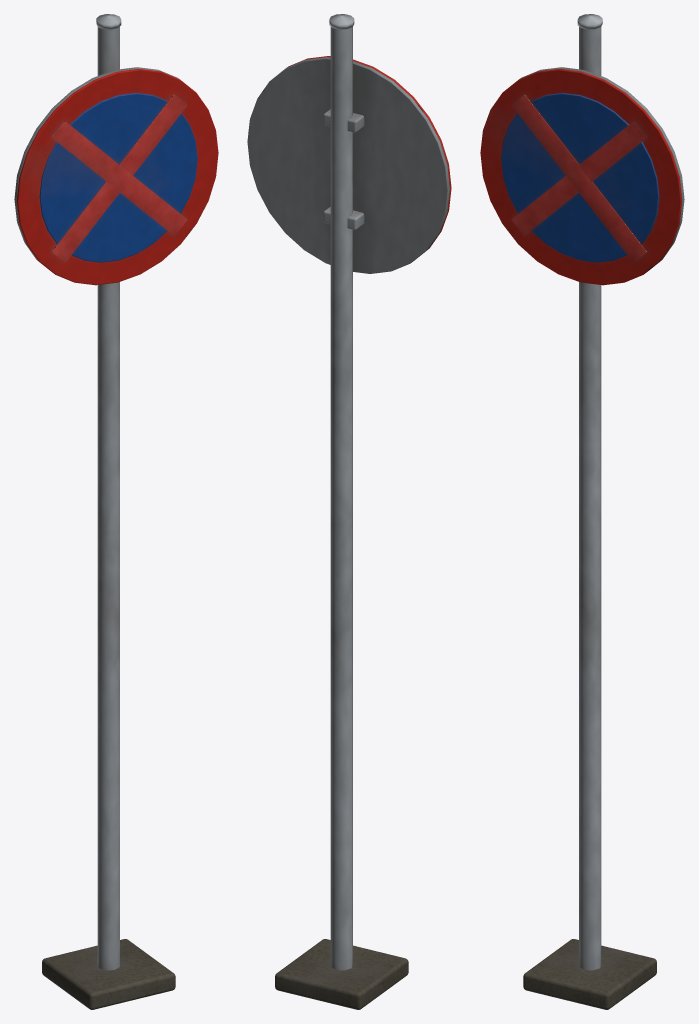
File: znak_zakaz.glb
The picture shows the model from 3 angles, left to right: view 1: azimuth 30°, elevation 25°; view 2: azimuth 150°, elevation 25°; view 3: azimuth 330°, elevation 25°; orthographic projection.
Parts seen in each view (by area): view 1: Tarcza, Slupek; view 2: Slupek, Tarcza; view 3: Tarcza, Slupek.
Part boxes in pixels (bbox=[...]): Tarcza: bbox=[16, 69, 218, 285]; Slupek: bbox=[14, 14, 178, 1009]; Slupek: bbox=[247, 14, 449, 1009]; Tarcza: bbox=[288, 56, 451, 252]; Tarcza: bbox=[480, 69, 682, 285]; Slupek: bbox=[520, 14, 684, 1009].
Size of the model in its own units: 0.604 by 2.78 by 0.26.
Materials: 2 (2 with a texture image).
